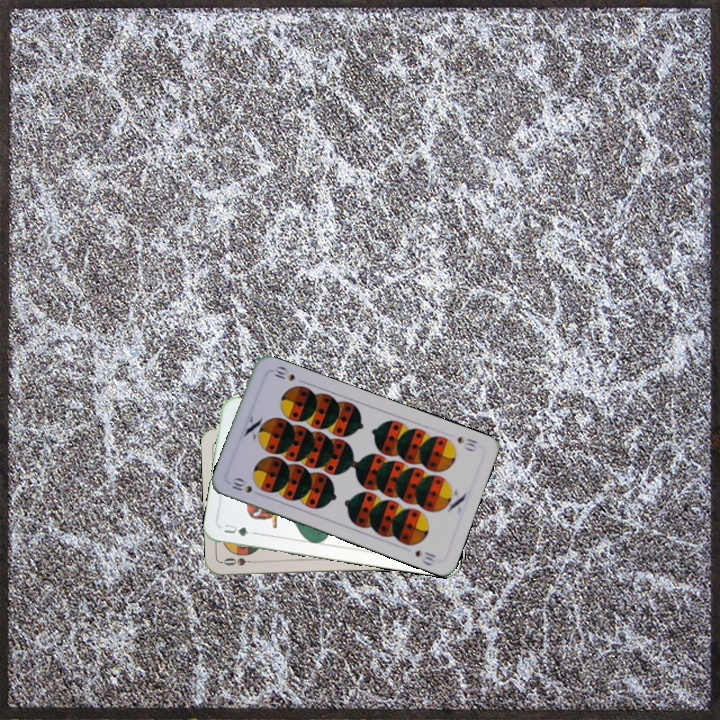GU: (220, 520, 258, 539)
S10: (228, 474, 264, 499), (453, 432, 480, 454)
SO: (220, 554, 260, 568)
